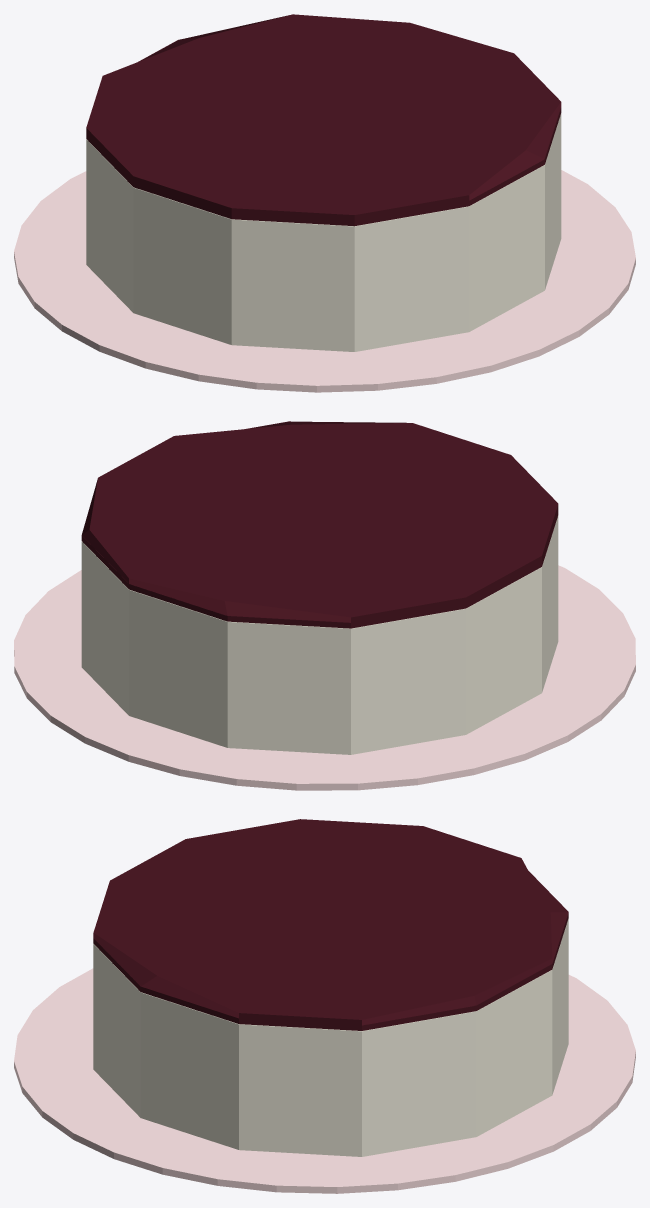
File: singlelayer.glb
3 views of the same model, one above another, from view 1: azimuth 30°, elevation 25°; view 2: azimuth 150°, elevation 25°; view 3: azimuth 270°, elevation 25° (orthographic).
Parts seen in each view (by area): view 1: layer 3 mid, layer 3 lowest, plate 2, layer 3 highest; view 2: layer 3 mid, layer 3 lowest, plate 2, layer 3 highest; view 3: layer 3 mid, layer 3 lowest, plate 2, layer 3 highest.
Boxes of the visible parts, left/top/right/bottom form: layer 3 mid: left=86, top=14, right=561, bottom=220; layer 3 lowest: left=86, top=113, right=561, bottom=351; plate 2: left=14, top=170, right=635, bottom=392; layer 3 highest: left=86, top=39, right=561, bottom=226; layer 3 mid: left=82, top=421, right=558, bottom=622; layer 3 lowest: left=81, top=516, right=558, bottom=754; plate 2: left=14, top=565, right=635, bottom=790; layer 3 highest: left=81, top=421, right=558, bottom=628; layer 3 mid: left=93, top=819, right=568, bottom=1025; layer 3 lowest: left=93, top=919, right=568, bottom=1156; plate 2: left=14, top=968, right=635, bottom=1193; layer 3 highest: left=93, top=871, right=568, bottom=1030.
Size of the model in its own units: 1.97 by 0.5065 by 1.97.
